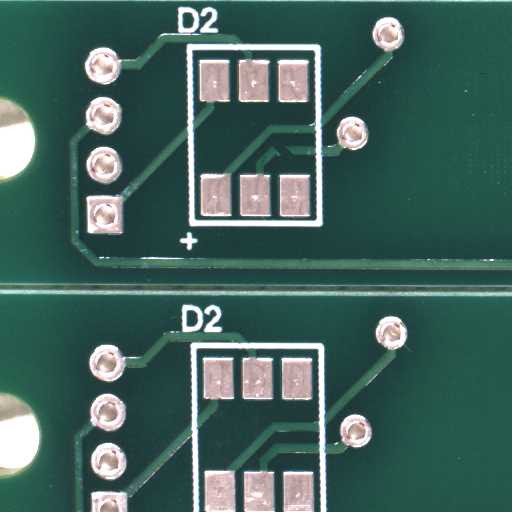Open_circuit: (282, 150, 302, 162)
